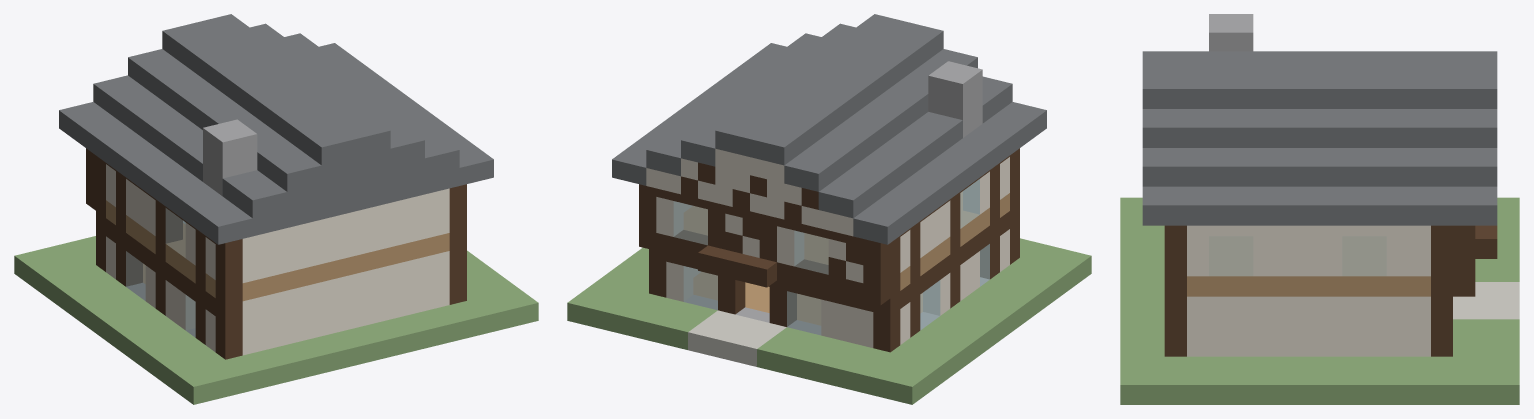
The model's file is street_house.glb.
3 renders of one model, left to right at view 1: azimuth 30°, elevation 25°; view 2: azimuth 150°, elevation 25°; view 3: azimuth 270°, elevation 25°, orthographic. The views are drawn at different scales.
Parts seen in each view (by area): view 1: street_house_part_143, street_house_part_137, street_house_part_040, street_house_part_005, street_house_part_103, street_house_part_010, street_house_part_127, street_house_part_136, street_house_part_128, street_house_part_119, street_house_part_129, street_house_part_003 (+20 smaller); view 2: street_house_part_143, street_house_part_005, street_house_part_137, street_house_part_127, street_house_part_002, street_house_part_136, street_house_part_000, street_house_part_119, street_house_part_129, street_house_part_001, street_house_part_138, street_house_part_063 (+52 smaller); view 3: street_house_part_143, street_house_part_003, street_house_part_019, street_house_part_119, street_house_part_129, street_house_part_137, street_house_part_010, street_house_part_065, street_house_part_000, street_house_part_094, street_house_part_039, street_house_part_011 (+15 smaller).
Part boxes in pixels (x1,y1,x2,y2): street_house_part_143: (162, 14, 390, 165); street_house_part_137: (137, 31, 424, 209); street_house_part_040: (242, 251, 449, 355); street_house_part_005: (44, 265, 245, 404); street_house_part_103: (242, 188, 449, 282); street_house_part_010: (226, 301, 486, 392); street_house_part_127: (59, 102, 252, 244); street_house_part_136: (93, 75, 202, 181); street_house_part_128: (252, 168, 459, 236); street_house_part_119: (319, 43, 493, 185); street_house_part_129: (284, 33, 459, 176); street_house_part_003: (467, 250, 538, 333); street_house_part_143: (715, 14, 943, 165); street_house_part_005: (891, 243, 1091, 382); street_house_part_137: (691, 23, 977, 184); street_house_part_127: (853, 102, 1046, 244); street_house_part_002: (757, 327, 942, 404); street_house_part_136: (818, 112, 962, 218); street_house_part_000: (567, 281, 717, 349); street_house_part_119: (612, 43, 786, 185); street_house_part_129: (646, 33, 821, 176); street_house_part_001: (688, 310, 786, 366); street_house_part_138: (928, 61, 982, 137); street_house_part_063: (777, 259, 890, 305); street_house_part_143: (1142, 51, 1497, 108); street_house_part_003: (1120, 356, 1452, 404); street_house_part_019: (1187, 296, 1430, 356); street_house_part_119: (1142, 186, 1497, 225); street_house_part_129: (1142, 148, 1497, 186); street_house_part_137: (1142, 109, 1475, 147); street_house_part_010: (1120, 225, 1164, 356); street_house_part_065: (1187, 267, 1430, 296); street_house_part_000: (1453, 319, 1519, 404); street_house_part_094: (1253, 225, 1342, 276); street_house_part_039: (1164, 225, 1186, 356); street_house_part_011: (1431, 225, 1452, 356).
Bounding box in the file's own units: 20 × 12 × 18.
